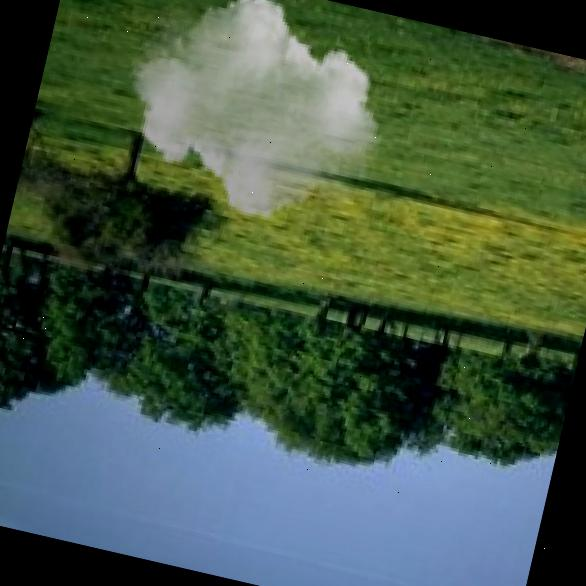smoke: (103, 0, 409, 250)
